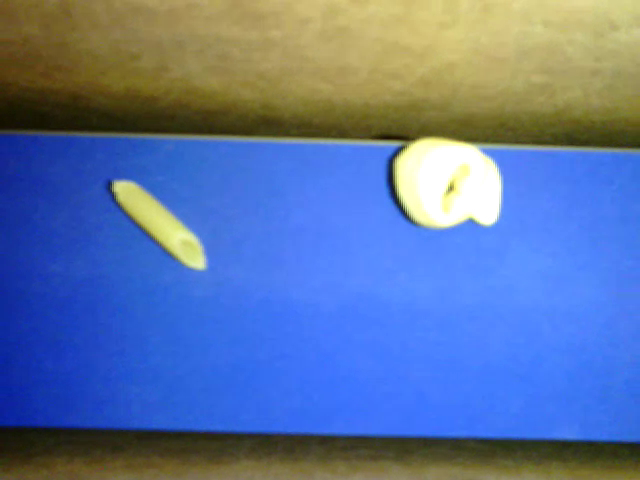penne: (111, 179, 206, 270)
tortellini: (391, 136, 502, 229)
